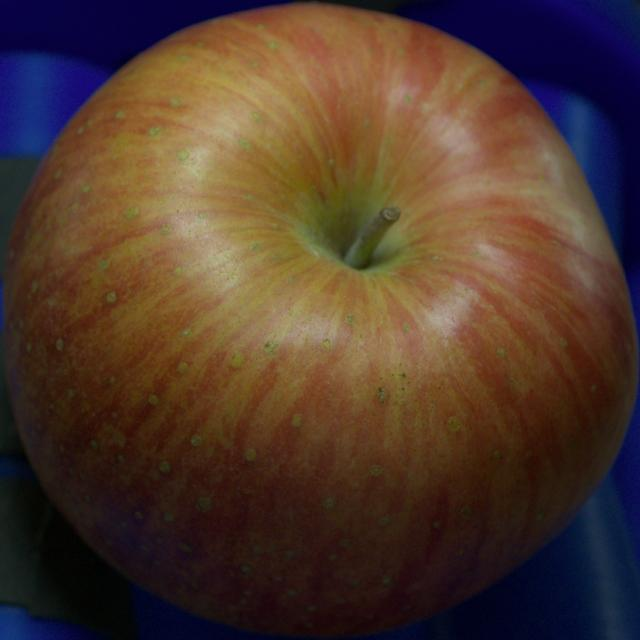apple: (3, 4, 638, 636)
